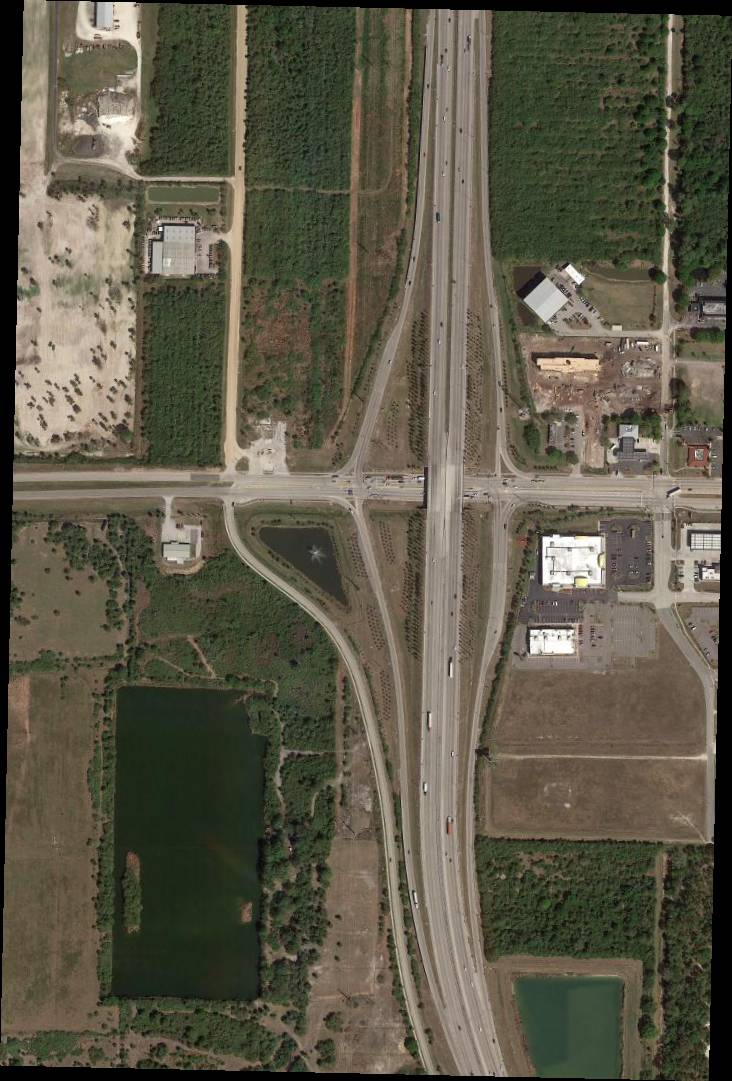large vehicle: (428, 714, 433, 733), (414, 892, 419, 909), (448, 817, 452, 836), (450, 660, 454, 678), (424, 783, 428, 797), (387, 478, 405, 481)
